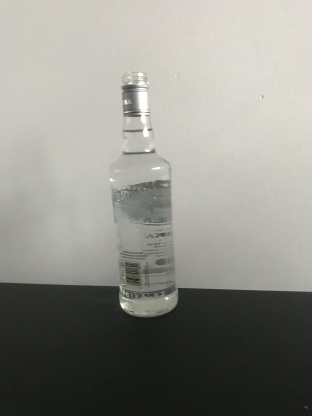nakretka: (119, 71, 151, 117)
